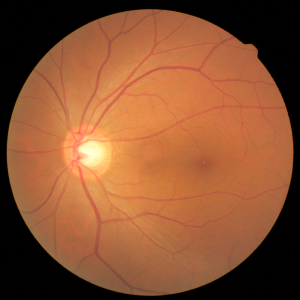glaucoma: (31, 92, 236, 218)
